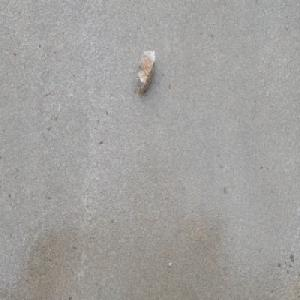Rock: (135, 48, 155, 94)
